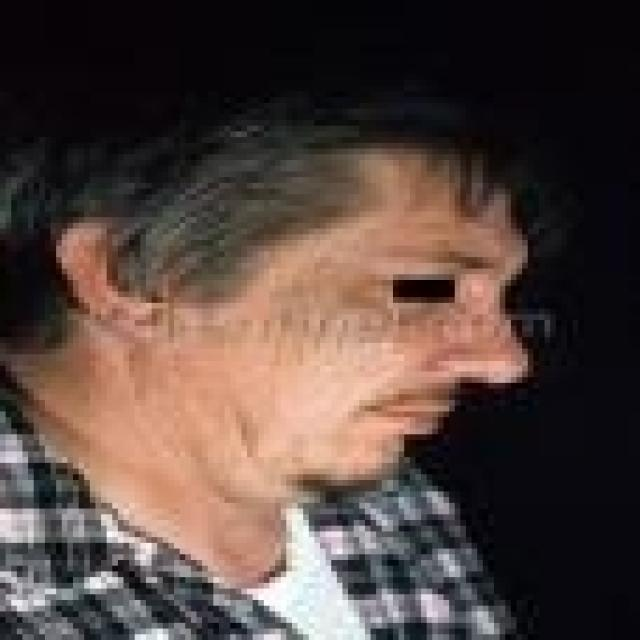Melasma: (261, 281, 400, 354)
